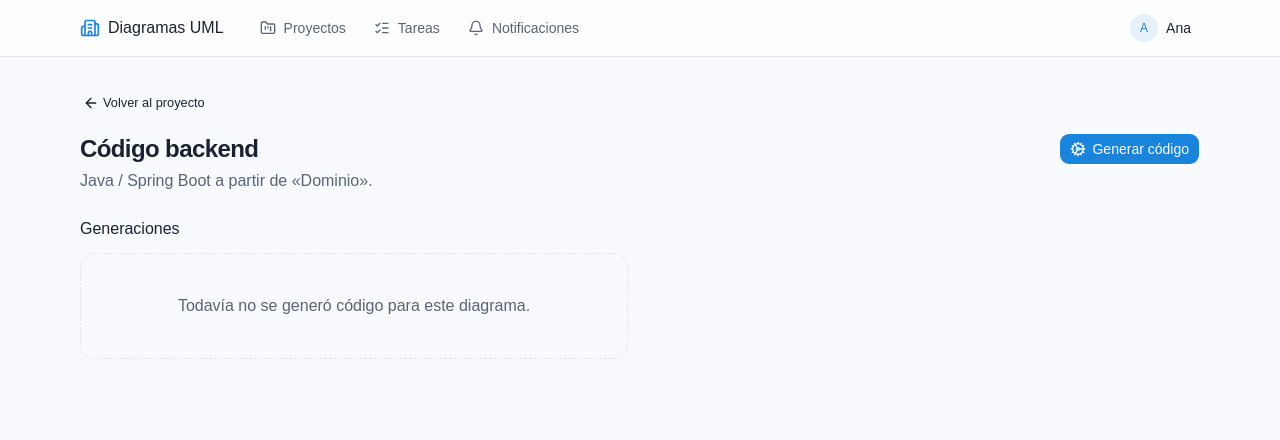
Test case: CU-14 Generar código backend › un diagrama incompleto se rechaza con su mensaje y sin crear tarea (CP-06)
Click the button "Generar código" at (1130,149), box top-left (1060, 133), bottom-right (1200, 165)
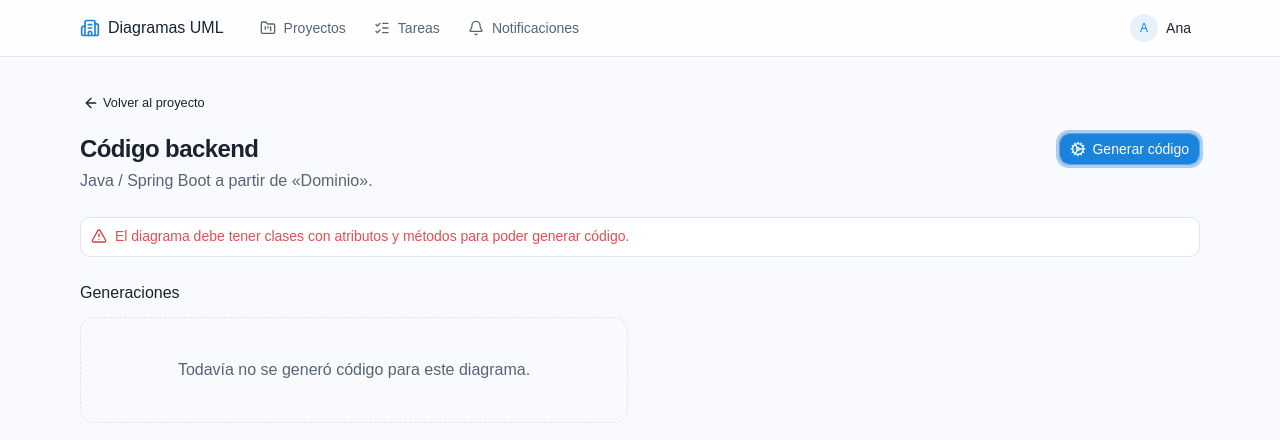
Expected: the text "Todavía no se generó código para este diagrama." is shown, top-left (80, 317), bottom-right (628, 423)
Expected: the message shows "El diagrama debe tener clases con atributos y métodos", top-left (115, 228), bottom-right (629, 244)
